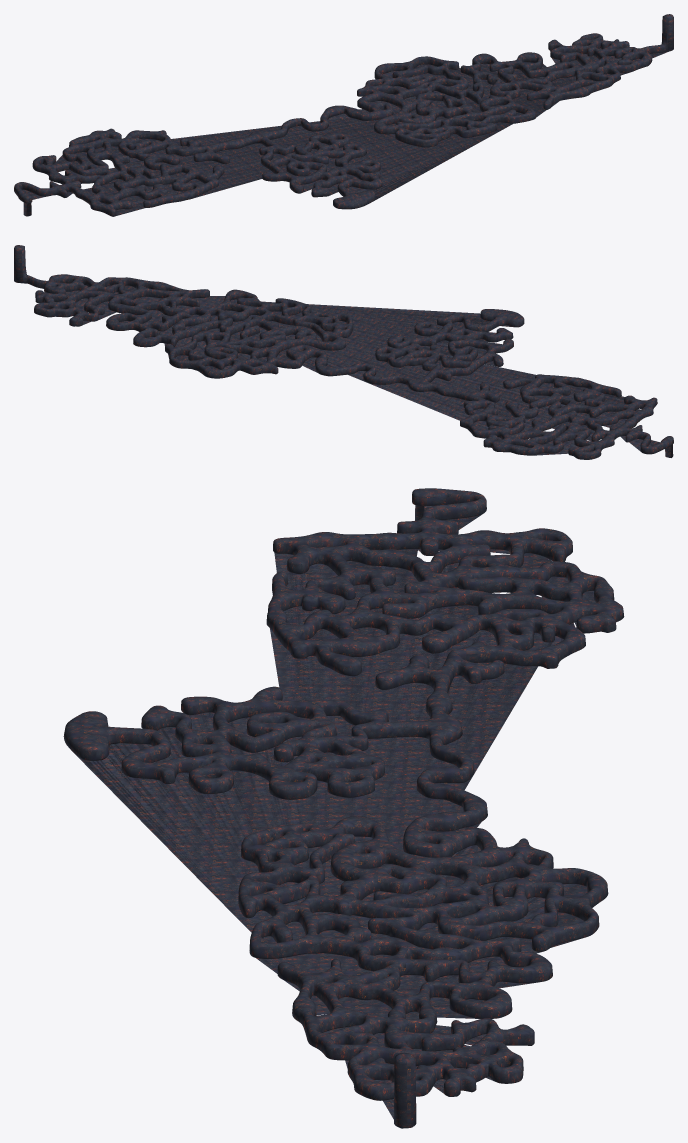
File: NewSecondStage2.fbx
3 views of the same model, one above another, from view 1: azimuth 30°, elevation 25°; view 2: azimuth 150°, elevation 25°; view 3: azimuth 270°, elevation 25° (orthographic). The views are drawn at different scales.
Visible parts, largest first — view 1: 円; view 2: 円; view 3: 円.
Boxes of the visible parts, x1,y1,x2,y2 form: 円: (14,14,673,216); 円: (14,245,673,459); 円: (63,488,624,1128).
Bounding box in the file's own units: 5911 × 414 × 2221.
